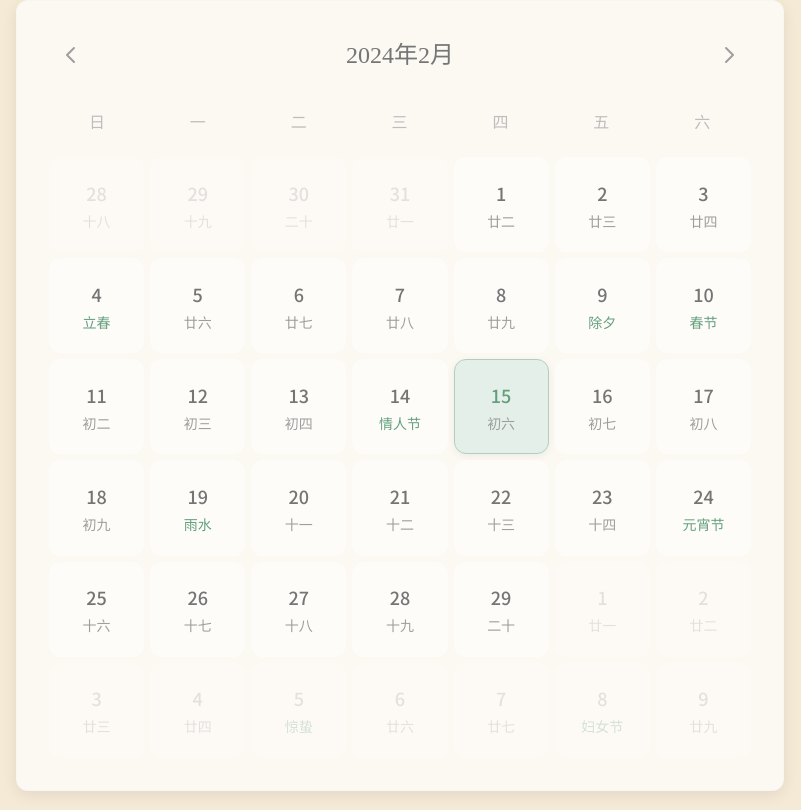
Test case: CalendarView › 月份导航 (Month Navigation) › should navigate to previous month when prev button is clicked
Click the button with test id "prev-month-btn" at (71,55), box [49, 33, 93, 77]
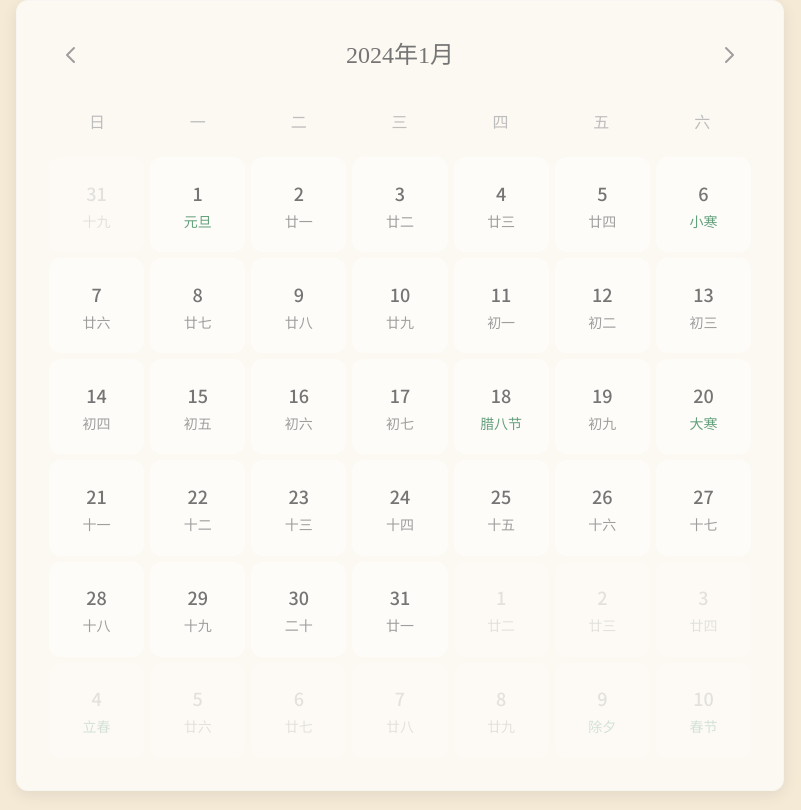
Result: the heading with test id "month-title" reads "2024年1月" at [346, 42, 454, 68]
